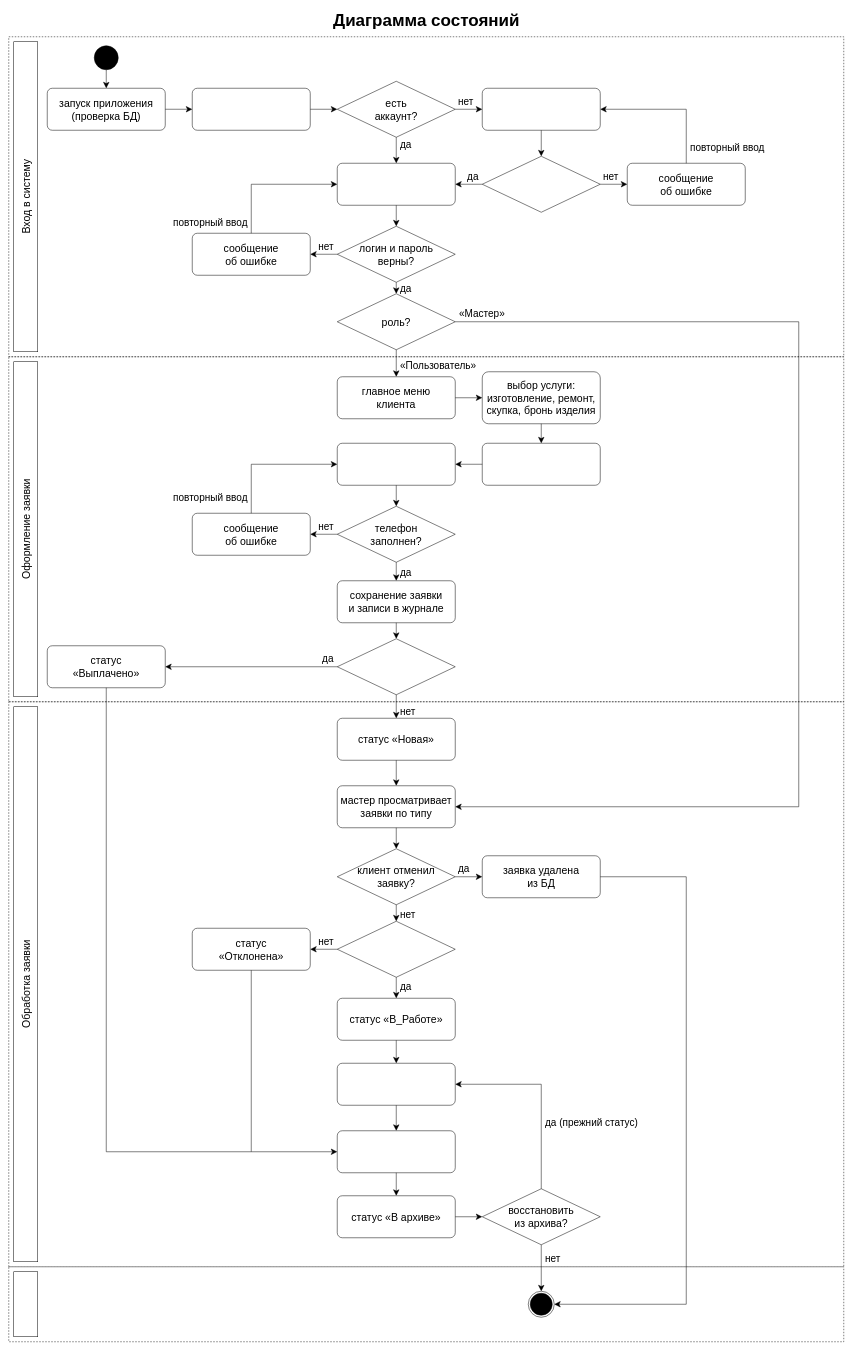
Image size: 853x1351. Some labels were removed from this diagram. The centre of each missing label's shape, as x and y in pixels:
"ввод логина и пароля" goes at point 396,184.
"ввод номера телефона" goes at point 396,464.
"Завершение" goes at point 25,1304.
"заполнение формы заявки" goes at point 541,464.
"логин свободен, код верен?" goes at point 541,184.
"мастер принял заявку?" goes at point 396,949.
"окно входа" goes at point 251,109.
"перенос в архив" goes at point 396,1151.
"регистрация (логин, пароль, роль)" goes at point 541,109.
"сдача лома?" goes at point 396,666.
"статус «Готова_к_выдаче»" goes at point 396,1084.
